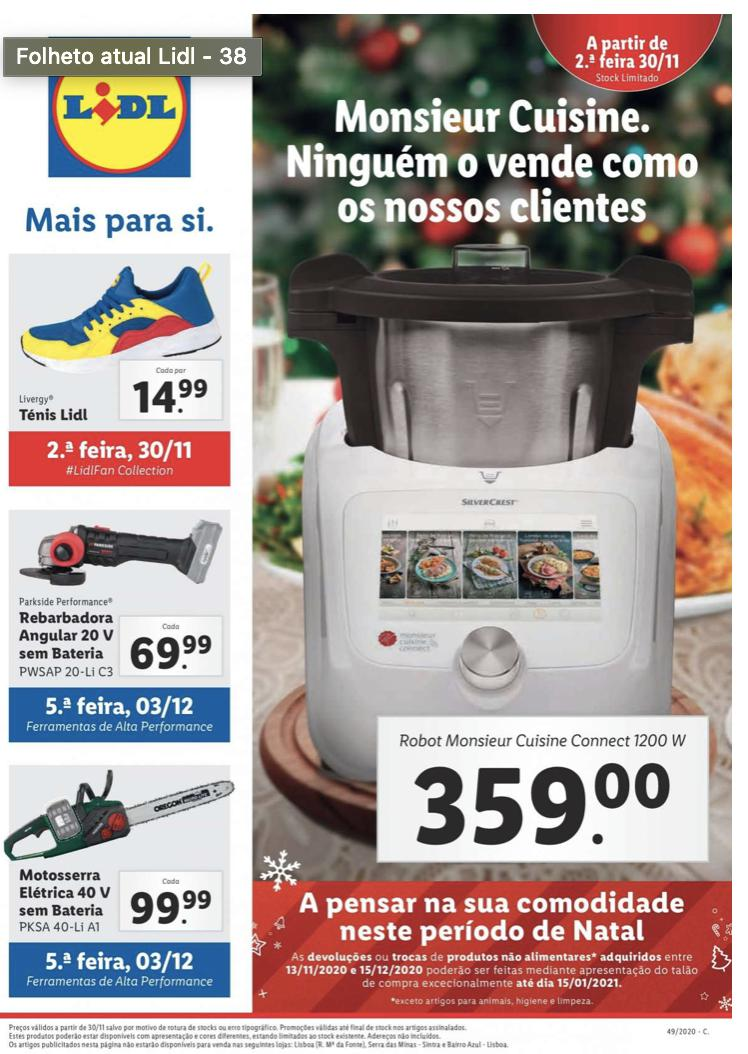name: (19, 607, 118, 661), (19, 867, 116, 922), (16, 405, 93, 426)
price: (407, 757, 677, 854), (125, 885, 214, 932), (131, 632, 216, 675), (131, 375, 211, 416)
product: (275, 232, 720, 878), (1, 249, 229, 431), (10, 505, 235, 684), (5, 767, 229, 936)
